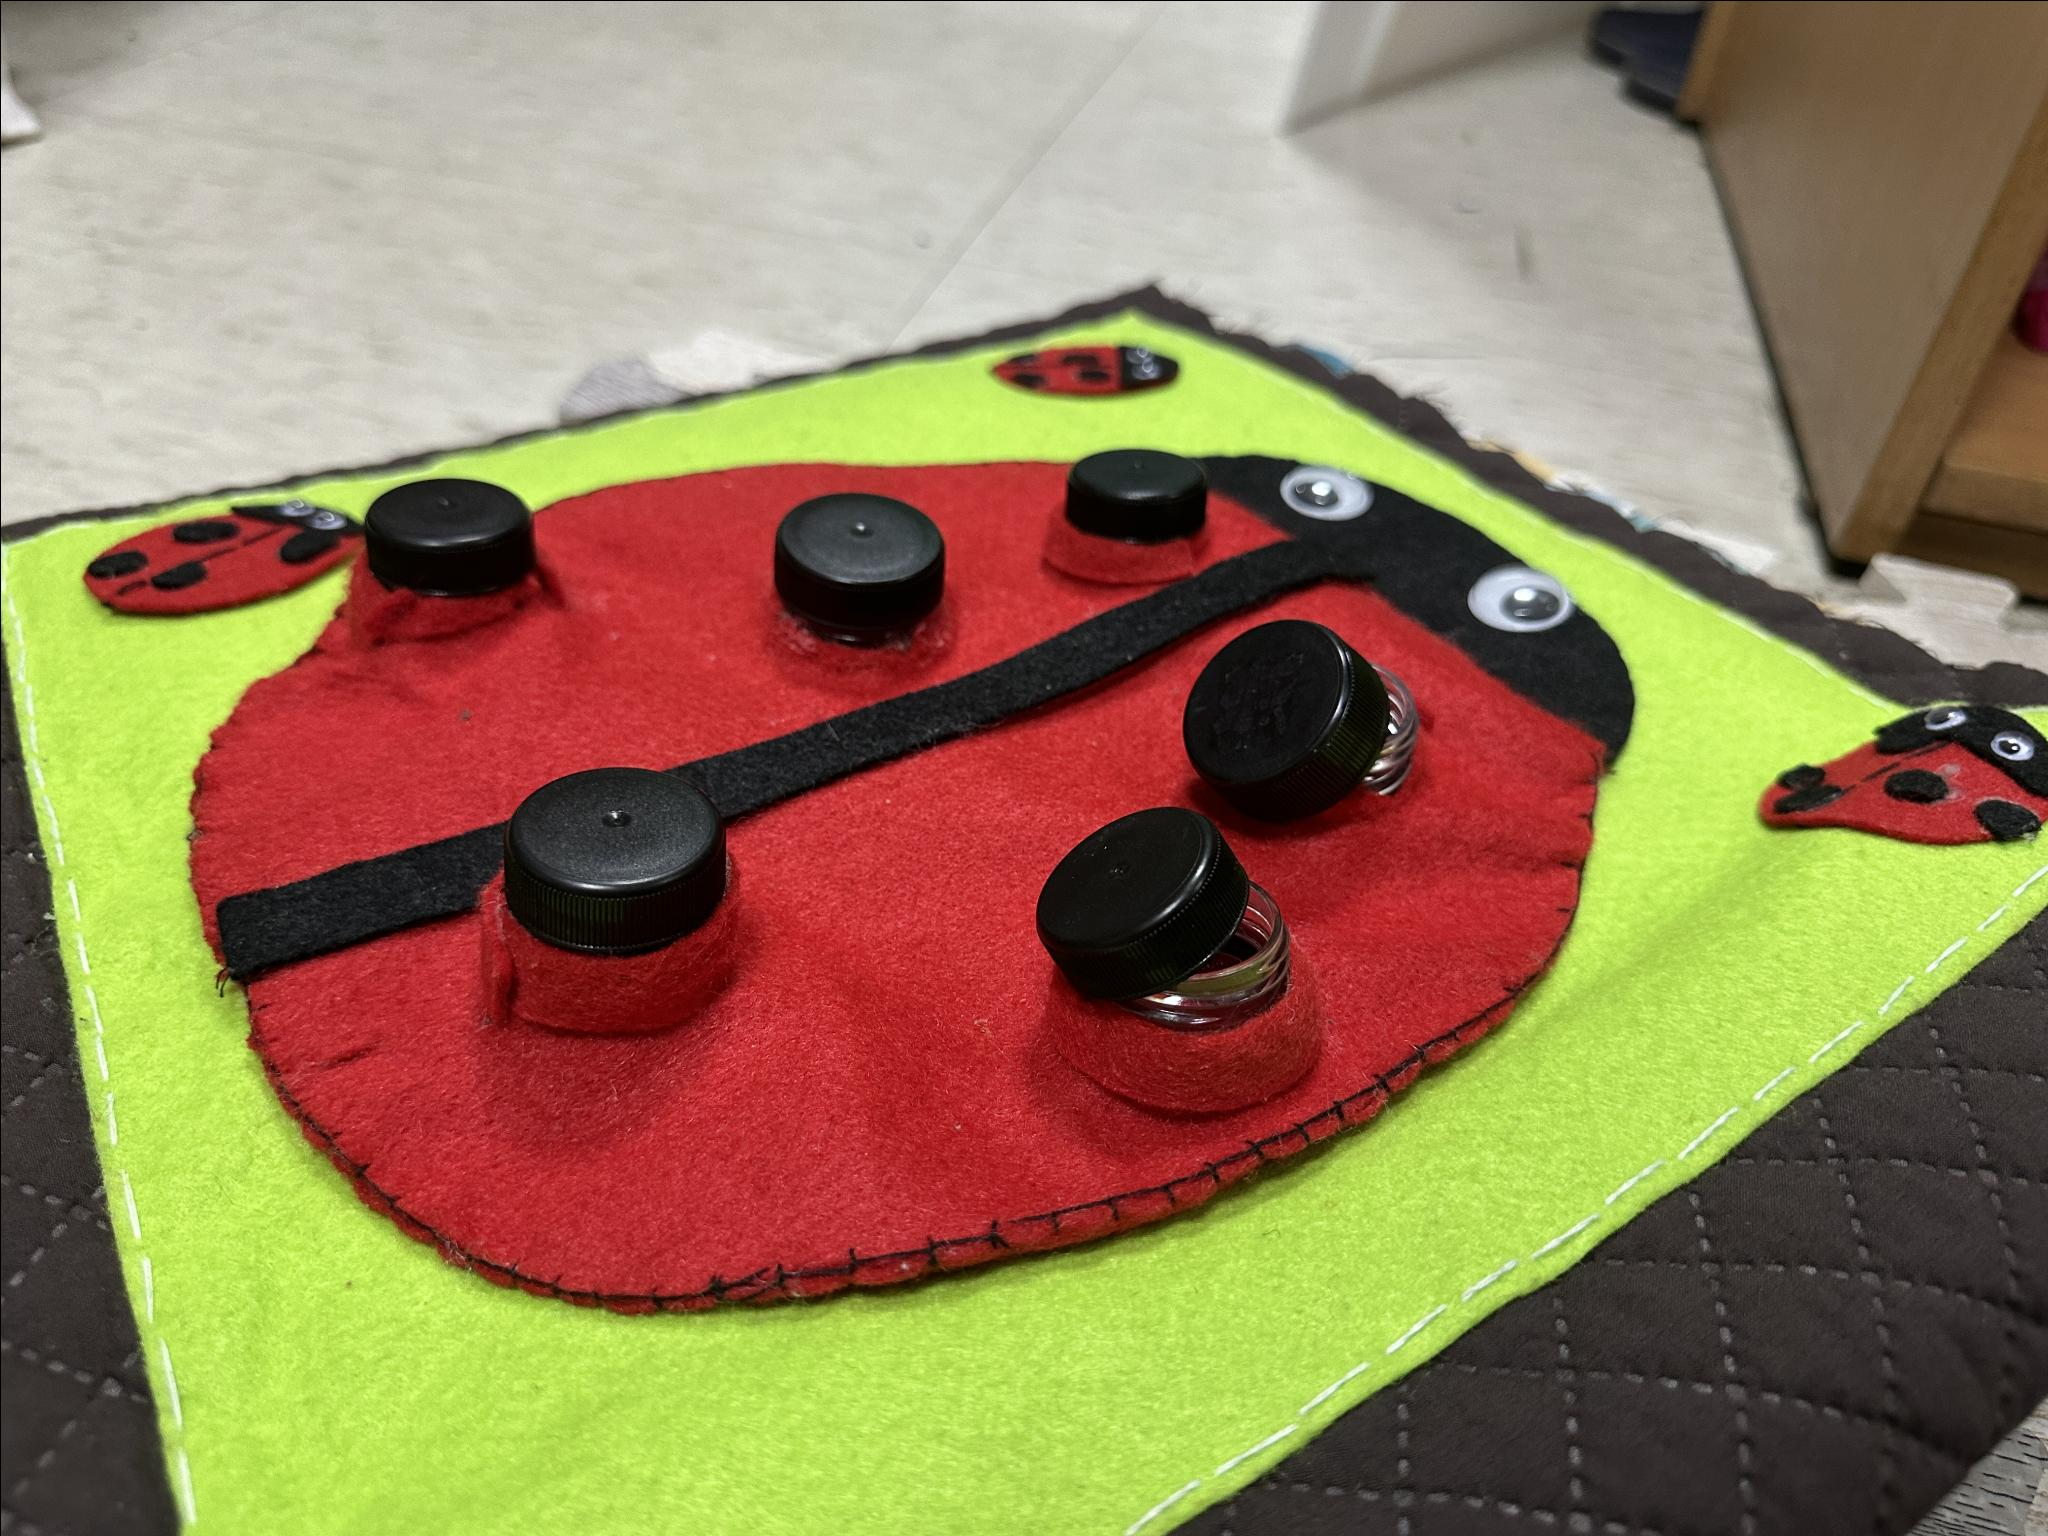cap_ng: (1014, 803, 1350, 1139), (1168, 605, 1471, 829)
cap_ok: (440, 747, 764, 1042), (734, 461, 963, 682), (329, 447, 547, 652), (1000, 423, 1227, 615)
